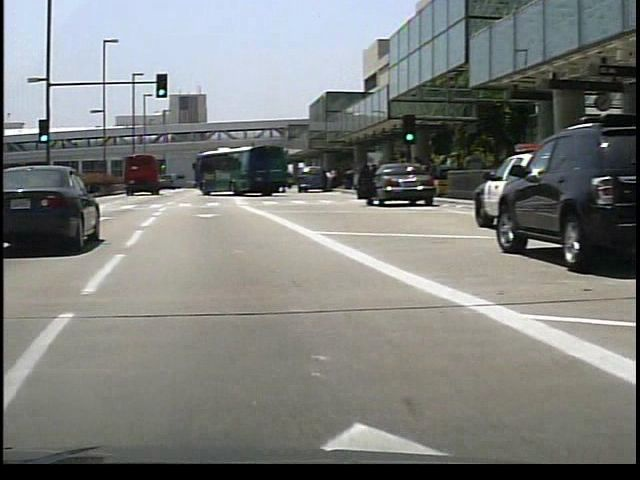person: (319, 167, 330, 192)
